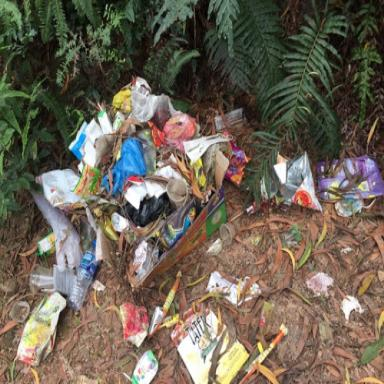plasticbag: (12, 57, 240, 332), (164, 303, 249, 383), (11, 284, 70, 364), (314, 145, 383, 211), (268, 144, 318, 219), (128, 76, 191, 127)
